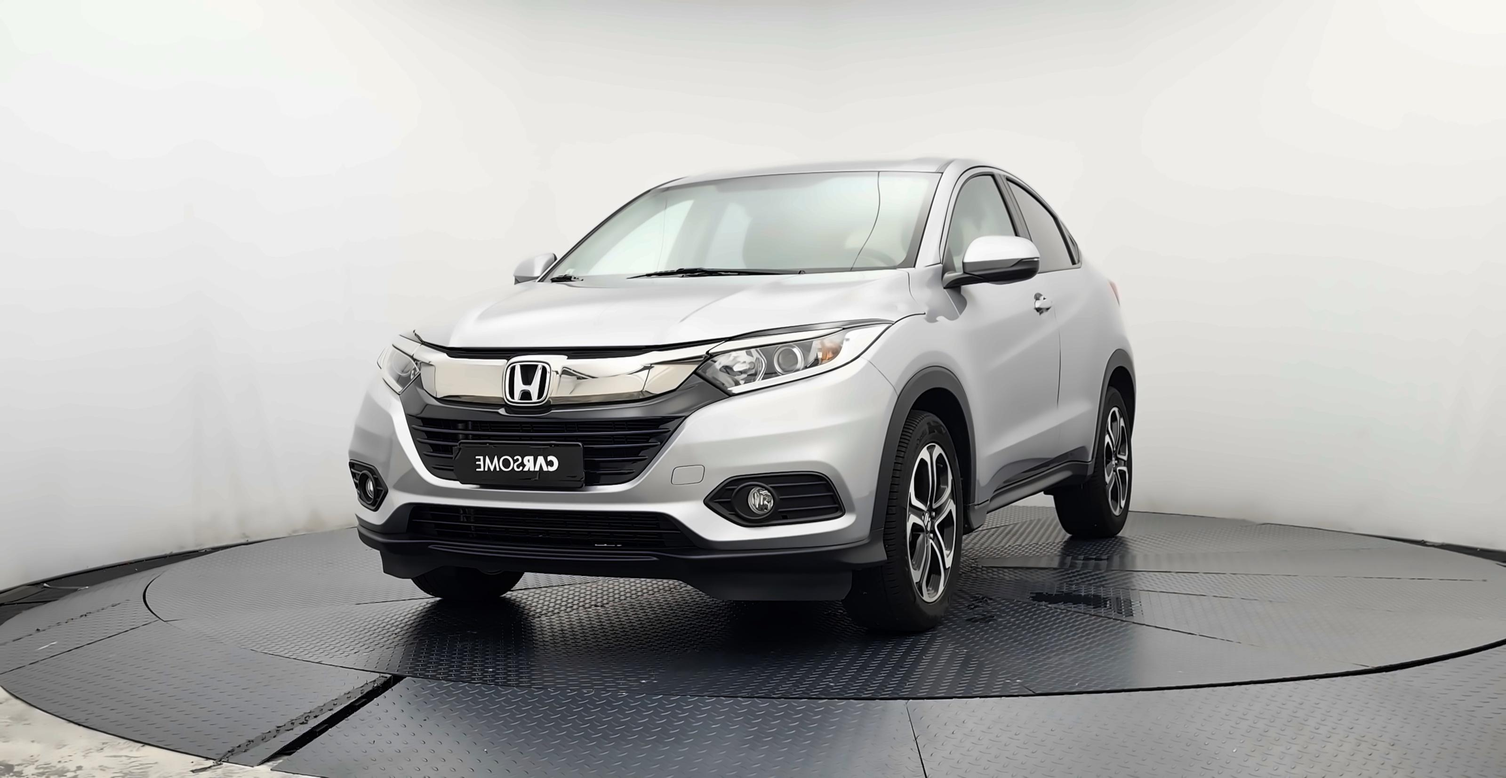Car hood: (400, 268, 929, 352)
Fender - -F-L-: (859, 252, 987, 530)
Fender - -R-L-: (1079, 264, 1139, 465)
Front bumper: (344, 358, 915, 607)
Headlight - -L-: (686, 316, 861, 399)
Headlight - -R-: (352, 320, 437, 399)
Passenger-s door - -F-L-: (932, 156, 1060, 508)
Passenger-s door - -R-L-: (1013, 164, 1109, 474)
Side bumper - -L-: (958, 449, 1117, 537)
Side mirror - -L-: (937, 228, 1047, 311)
Side mirror - -R-: (507, 236, 577, 294)
